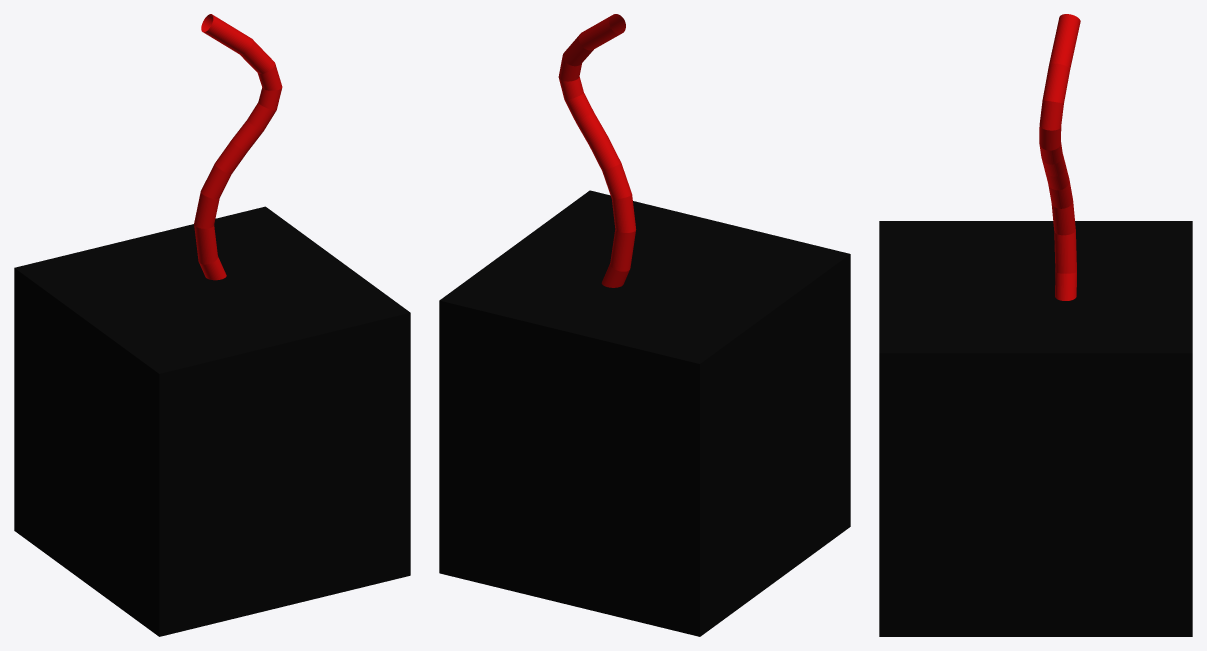
Rendered from bomb.fbx.
3 renders of one model, left to right at view 1: azimuth 30°, elevation 25°; view 2: azimuth 150°, elevation 25°; view 3: azimuth 270°, elevation 25°, orthographic. The views are drawn at different scales.
Parts seen in each view (by area): view 1: BezierCurve; view 2: BezierCurve; view 3: BezierCurve.
Boxes of the visible parts, left/top/right/bottom form: BezierCurve: left=14, top=14, right=410, bottom=636; BezierCurve: left=439, top=14, right=850, bottom=636; BezierCurve: left=879, top=14, right=1192, bottom=636.
Size of the model in its own units: 1.93 by 3.84 by 1.93.
